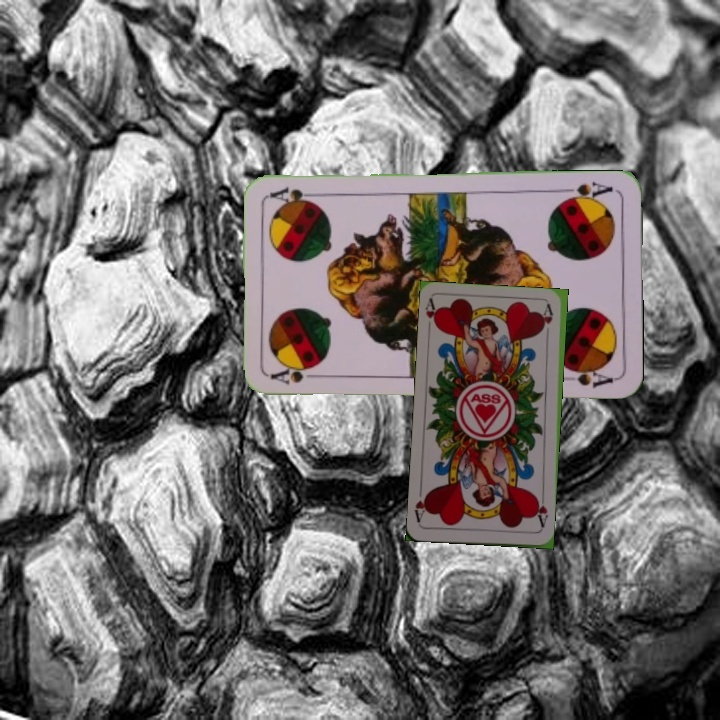HA: (531, 491, 551, 532), (421, 296, 441, 337)
SA: (557, 177, 615, 204), (268, 364, 327, 388)
